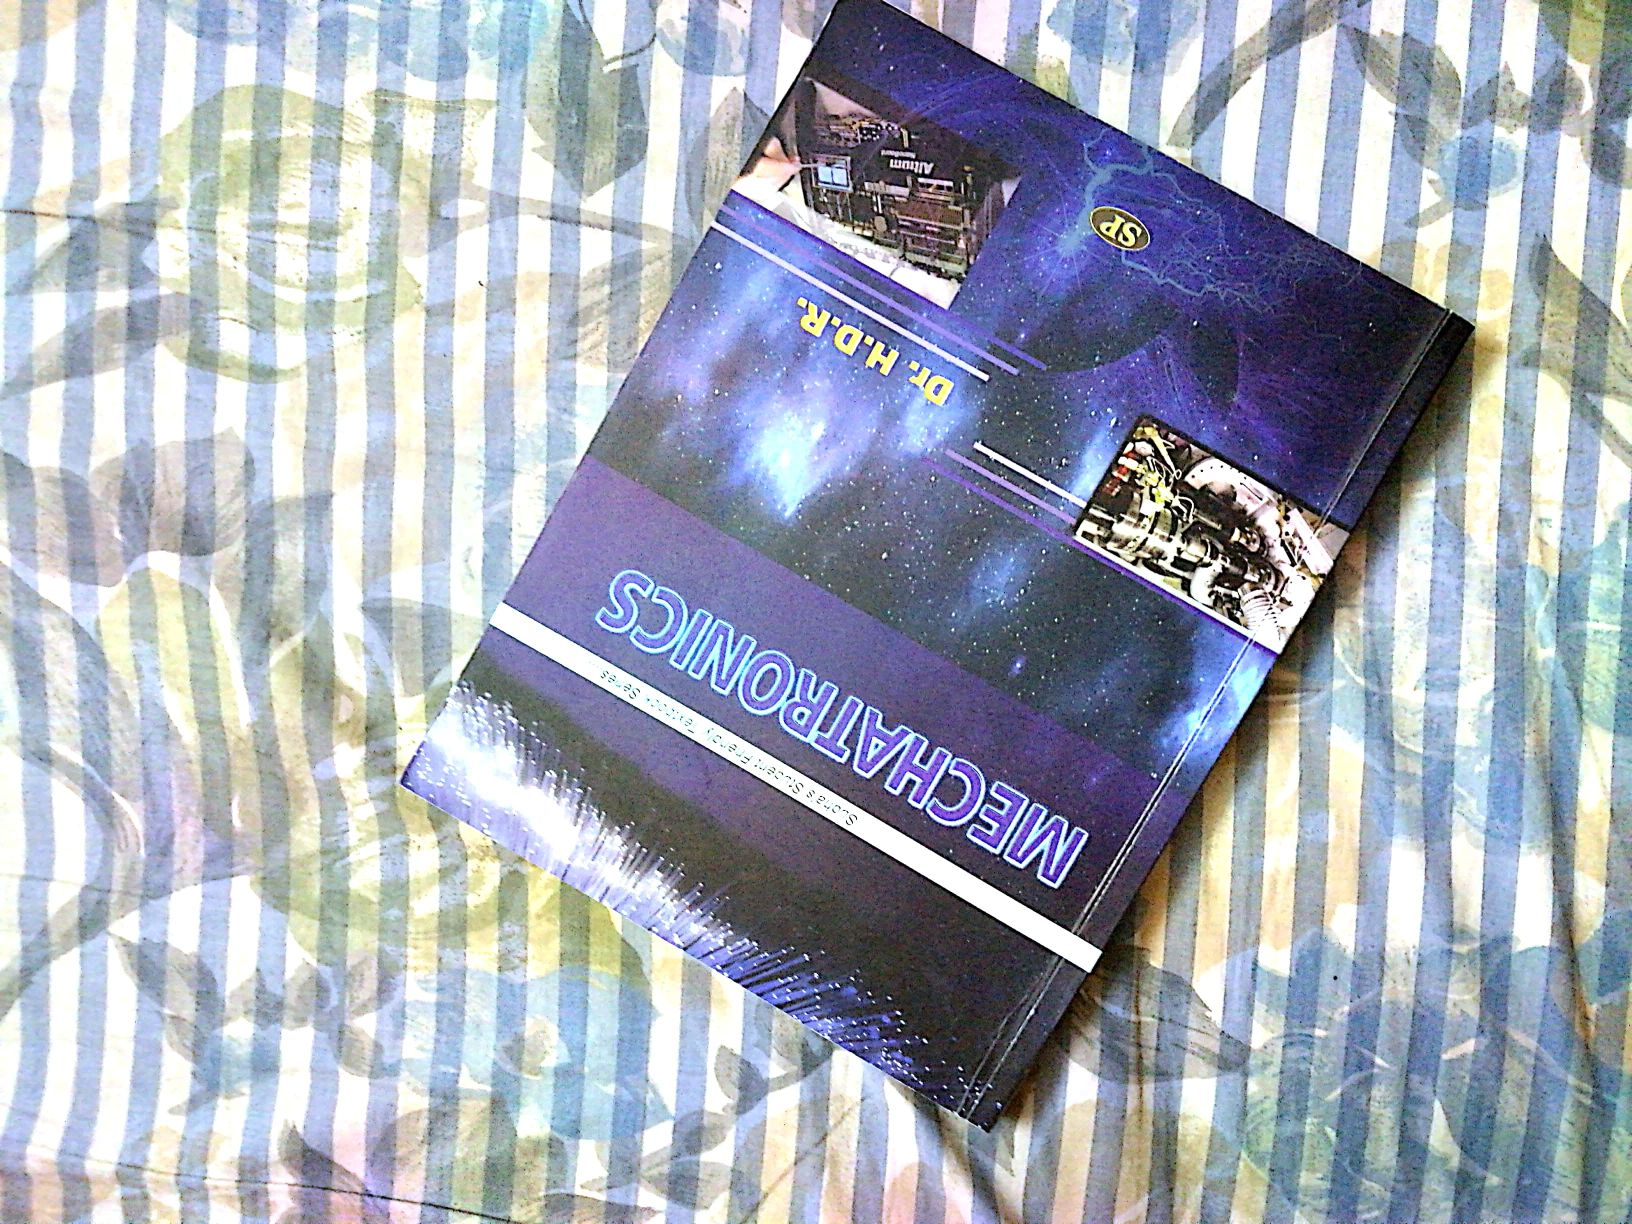mechatronics: (404, 23, 1468, 1113)
